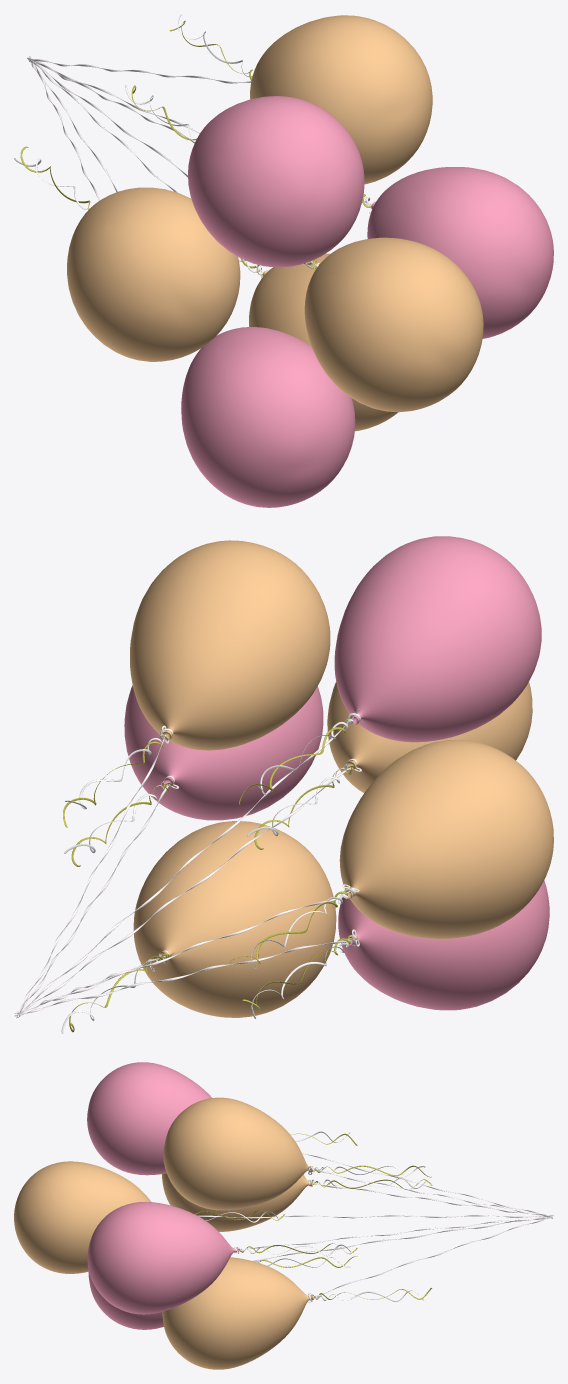
File: Ballon_Cluster_v1.gltf
The picture shows the model from 3 angles, top to bottom: view 1: azimuth 30°, elevation 25°; view 2: azimuth 150°, elevation 25°; view 3: azimuth 270°, elevation 25°; orthographic projection. The views are drawn at different scales.
Visible parts, largest first — view 1: Balloon_yellow04, Balloon_pink01, Balloon_pink02, Balloon_yellow01, Balloon_pink03, Balloon_yellow03, Balloon_yellow02, Balloon_rope05, Balloon_rope01, Object06; view 2: Balloon_pink02, Balloon_yellow01, Balloon_yellow03, Balloon_yellow02, Balloon_pink01, Balloon_pink03, Balloon_yellow04, Object06, Balloon_rope07, Balloon_rope01, Balloon_rope02, Balloon_rope05 (+2 smaller); view 3: Balloon_pink03, Balloon_yellow03, Balloon_yellow02, Balloon_yellow04, Balloon_pink02, Balloon_yellow01, Balloon_pink01, Balloon_rope04, Balloon_rope07, Balloon_rope05, Balloon_rope02, Balloon_rope03 (+2 smaller).
Part boxes in pixels (left/top/right/bottom): Balloon_yellow04: left=304, top=237, right=483, bottom=412; Balloon_pink01: left=181, top=327, right=355, bottom=507; Balloon_pink02: left=188, top=96, right=364, bottom=267; Balloon_yellow01: left=67, top=187, right=240, bottom=361; Balloon_pink03: left=367, top=167, right=553, bottom=338; Balloon_yellow03: left=250, top=15, right=432, bottom=184; Balloon_yellow02: left=249, top=253, right=397, bottom=431; Balloon_rope05: left=27, top=14, right=252, bottom=83; Balloon_rope01: left=14, top=62, right=99, bottom=209; Object06: left=29, top=61, right=196, bottom=143; Balloon_pink02: left=334, top=536, right=541, bottom=742; Balloon_yellow01: left=339, top=740, right=553, bottom=938; Balloon_yellow03: left=130, top=540, right=330, bottom=750; Balloon_yellow02: left=133, top=821, right=336, bottom=1017; Balloon_pink01: left=338, top=880, right=549, bottom=1010; Balloon_pink03: left=124, top=685, right=323, bottom=820; Balloon_yellow04: left=327, top=682, right=532, bottom=792; Object06: left=16, top=709, right=360, bottom=1018; Balloon_rope07: left=19, top=758, right=361, bottom=1014; Balloon_rope01: left=15, top=884, right=359, bottom=1016; Balloon_rope02: left=14, top=929, right=359, bottom=1018; Balloon_rope05: left=19, top=725, right=173, bottom=1016; Balloon_pink03: left=87, top=1202, right=238, bottom=1314; Balloon_yellow03: left=163, top=1097, right=313, bottom=1210; Balloon_yellow02: left=162, top=1257, right=313, bottom=1369; Balloon_yellow04: left=14, top=1161, right=150, bottom=1273; Balloon_pink02: left=87, top=1062, right=211, bottom=1175; Balloon_yellow01: left=162, top=1173, right=313, bottom=1231; Balloon_pink01: left=88, top=1271, right=163, bottom=1329; Balloon_rope04: left=233, top=1215, right=553, bottom=1256; Balloon_rope07: left=195, top=1210, right=550, bottom=1222; Balloon_rope05: left=307, top=1165, right=552, bottom=1216; Balloon_rope02: left=252, top=1216, right=553, bottom=1267; Balloon_rope03: left=307, top=1215, right=552, bottom=1302.
Bounding box in the file's own units: 29.63 × 28.05 × 51.84.
Materials: 3 (3 with a texture image).
